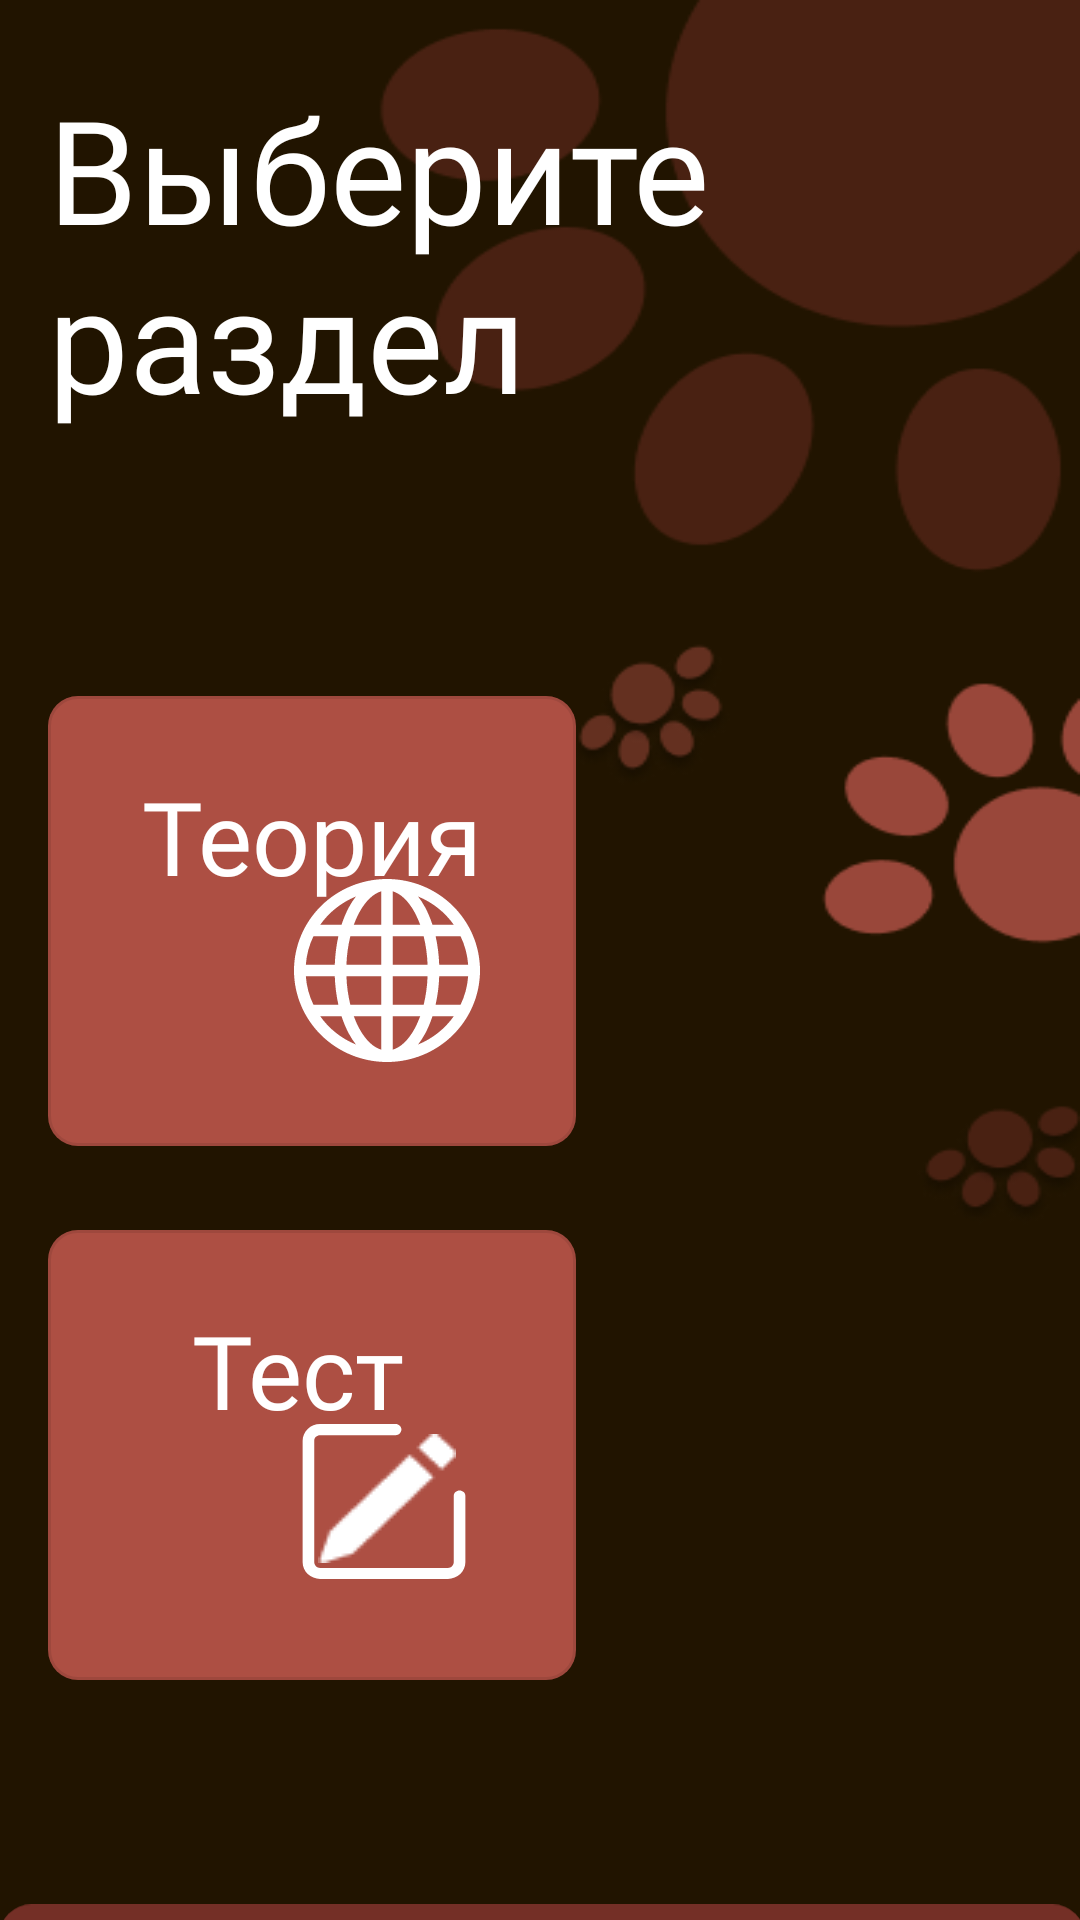

Icons on this 1080px×1920px Android screen, each with the point to tap as (x,y):
pen: (387,1498)
